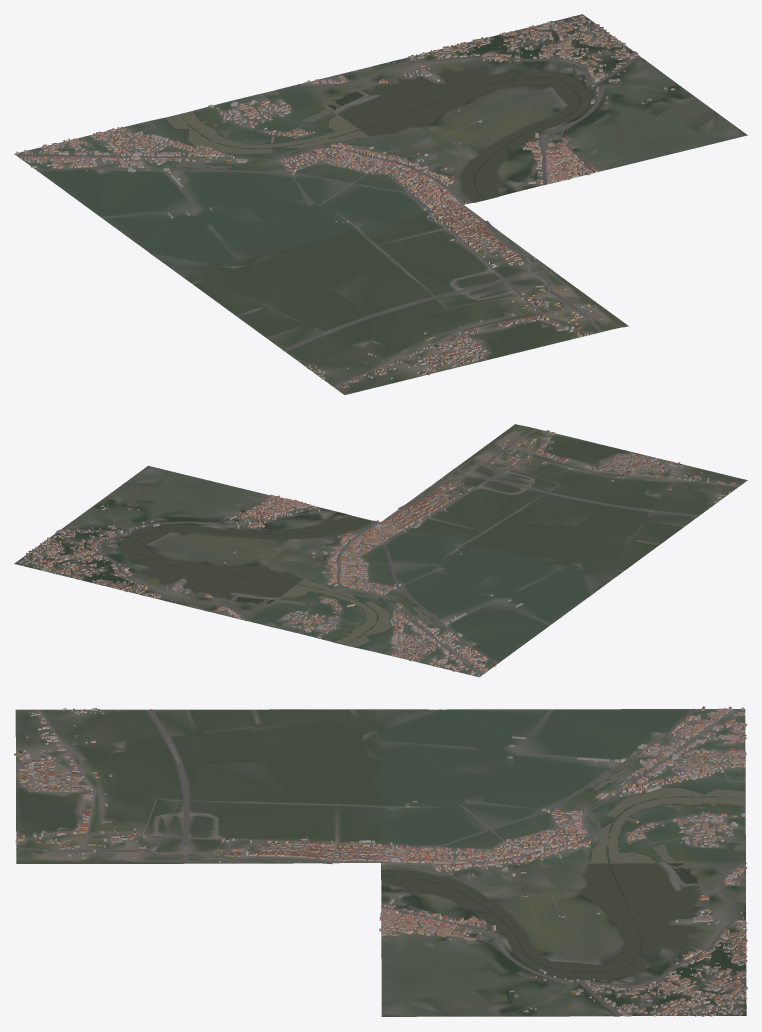
The picture shows the model from 3 angles, top to bottom: view 1: azimuth 30°, elevation 25°; view 2: azimuth 150°, elevation 25°; view 3: azimuth 270°, elevation 25°; orthographic projection. The views are drawn at different scales.
Parts seen in each view (by area): view 1: ground, buildings, water, roads; view 2: ground, buildings, water, roads; view 3: ground, buildings, water, roads.
Part boxes in pixels (bbox=[...]): ground: bbox=[14, 14, 747, 394]; buildings: bbox=[16, 15, 675, 387]; water: bbox=[152, 58, 640, 378]; roads: bbox=[15, 17, 685, 387]; ground: bbox=[14, 425, 747, 677]; buildings: bbox=[17, 430, 735, 676]; water: bbox=[106, 424, 694, 647]; roads: bbox=[23, 429, 738, 676]; ground: bbox=[15, 709, 746, 1016]; buildings: bbox=[14, 706, 747, 1016]; water: bbox=[16, 709, 745, 993]; roads: bbox=[16, 708, 746, 1016].
Bounding box in the file's own units: 2811 × 29.44 × 2820.
